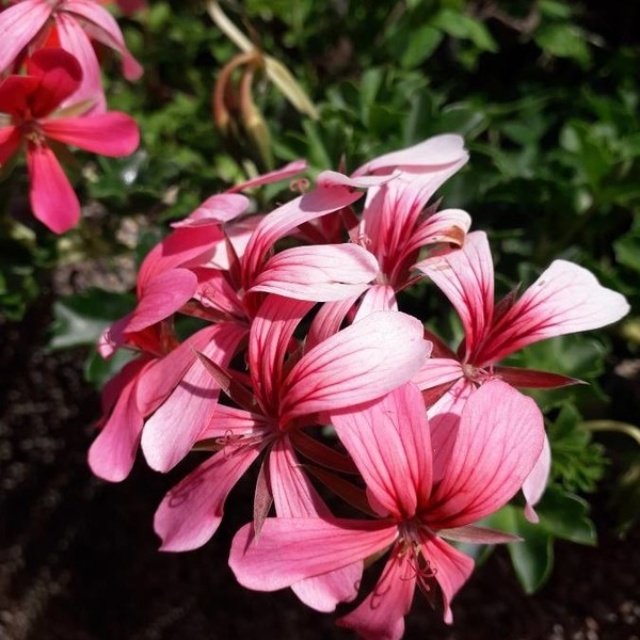obstacle: (121, 153, 556, 596)
